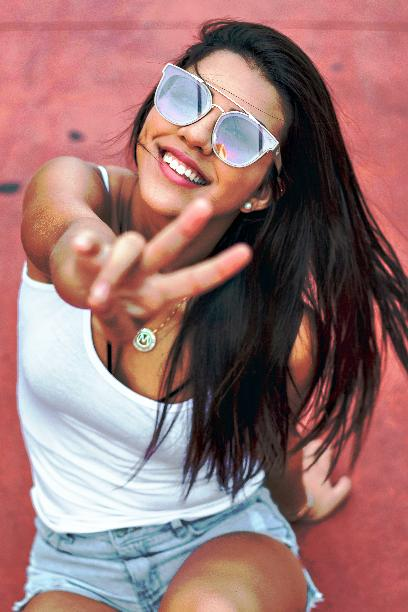Scissors: (68, 195, 257, 346)
